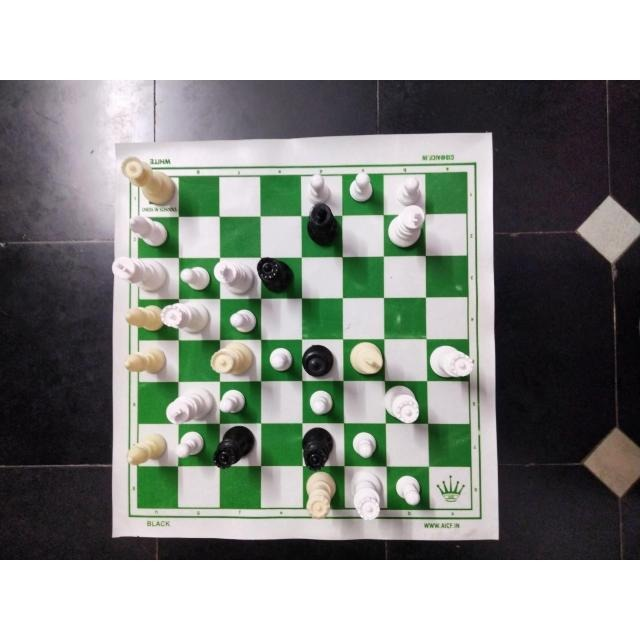black-king: (304, 202, 344, 250)
black-queen: (208, 428, 253, 472), (297, 429, 338, 471), (258, 256, 298, 295), (303, 340, 337, 379)
white-bishop: (125, 421, 168, 466), (117, 345, 172, 376), (129, 215, 175, 252), (117, 298, 164, 331)
white-king: (162, 385, 216, 422), (108, 256, 169, 288), (389, 204, 427, 252), (343, 340, 389, 377), (211, 260, 253, 293)
white-pawn: (303, 175, 339, 207), (392, 476, 424, 510), (216, 390, 252, 420), (176, 433, 212, 461), (223, 303, 257, 331), (180, 263, 212, 291), (350, 172, 378, 203), (305, 389, 333, 418), (396, 176, 425, 203), (352, 433, 378, 460), (270, 345, 294, 374)
white-queen: (116, 160, 176, 212), (342, 469, 382, 522), (159, 300, 208, 340), (210, 342, 261, 379), (298, 472, 339, 517), (380, 381, 422, 421), (431, 341, 473, 376)
